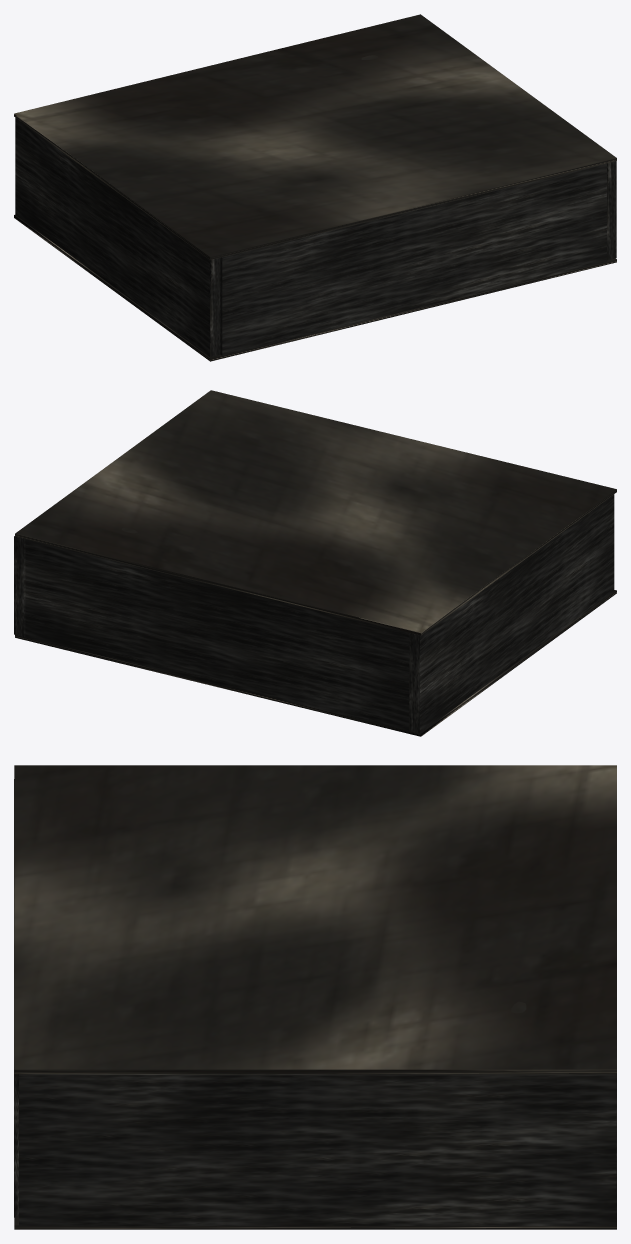
Rendered from HorrorRoom.obj.
3 renders of one model, top to bottom at view 1: azimuth 30°, elevation 25°; view 2: azimuth 150°, elevation 25°; view 3: azimuth 270°, elevation 25°, orthographic. The views are drawn at different scales.
Parts seen in each view (by area): view 1: Roof, Wall.004, Wall.003, Floor, Wall.002; view 2: Roof, Wall.005, Wall.003, Floor, Wall.002; view 3: Roof, Wall.002, Floor, Wall.004.
Boxes of the visible parts, x1=… form: Roof: x1=14, y1=14, x2=616, y2=259; Wall.004: x1=220, y1=163, x2=606, y2=355; Wall.003: x1=15, y1=118, x2=220, y2=357; Floor: x1=14, y1=215, x2=616, y2=361; Wall.002: x1=606, y1=161, x2=616, y2=260; Roof: x1=15, y1=390, x2=616, y2=635; Wall.005: x1=25, y1=539, x2=409, y2=730; Wall.003: x1=409, y1=494, x2=614, y2=733; Floor: x1=15, y1=590, x2=616, y2=736; Wall.002: x1=14, y1=536, x2=25, y2=636; Roof: x1=14, y1=765, x2=616, y2=1074; Wall.002: x1=19, y1=1074, x2=616, y2=1225; Floor: x1=14, y1=1217, x2=616, y2=1229; Wall.004: x1=14, y1=779, x2=18, y2=1217.
Bounding box in the file's own units: 43.52 × 10.64 × 36.33.
